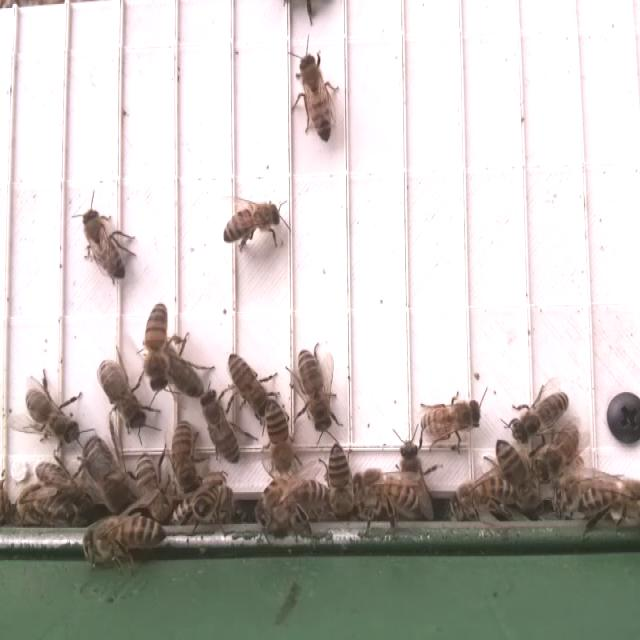Drone: (75, 430, 140, 513)
Worker: (349, 462, 422, 531), (219, 346, 281, 426), (282, 351, 345, 429), (94, 355, 152, 434), (293, 50, 339, 148), (138, 294, 178, 403), (258, 475, 325, 539), (197, 388, 247, 472), (23, 381, 84, 447), (78, 203, 127, 283), (159, 420, 209, 493), (83, 513, 167, 556), (416, 392, 485, 444), (220, 197, 284, 252), (512, 389, 571, 447), (532, 421, 583, 485), (321, 435, 359, 516), (256, 401, 299, 472), (448, 472, 516, 515), (572, 479, 640, 521), (494, 436, 533, 507)
